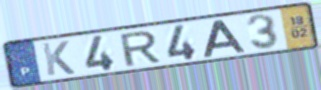3: (245, 13, 280, 52)
4: (82, 33, 117, 73), (164, 22, 199, 62)
A: (202, 19, 248, 59)
K: (40, 39, 78, 78)
R: (117, 29, 163, 69)
